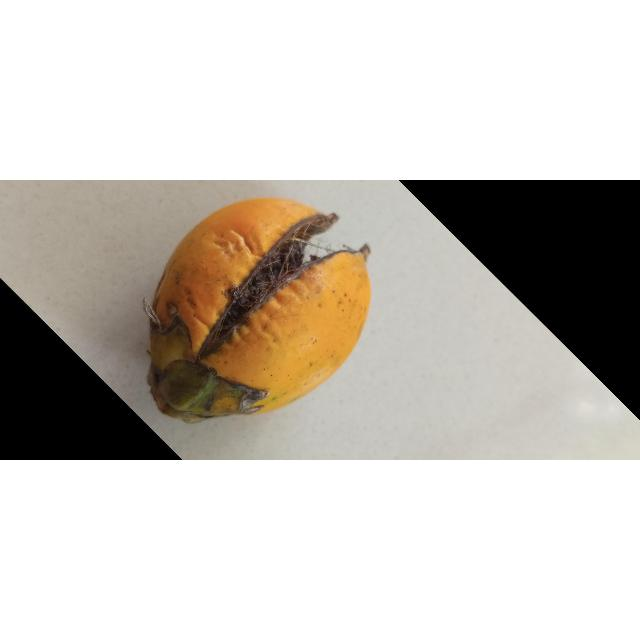damaged: (148, 198, 373, 425)
